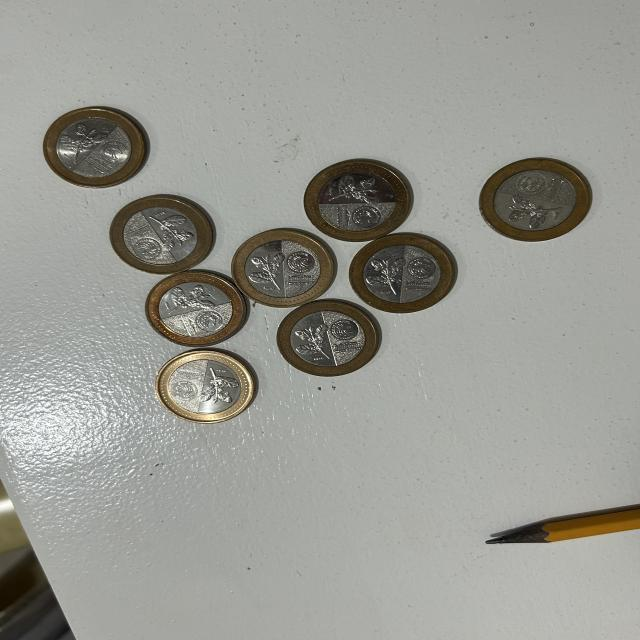20_New_Back: (365, 251, 408, 299), (245, 251, 289, 296), (505, 197, 562, 227), (332, 176, 379, 210), (197, 370, 240, 407), (59, 125, 101, 160), (298, 324, 338, 360), (153, 213, 192, 249), (166, 288, 215, 314)
